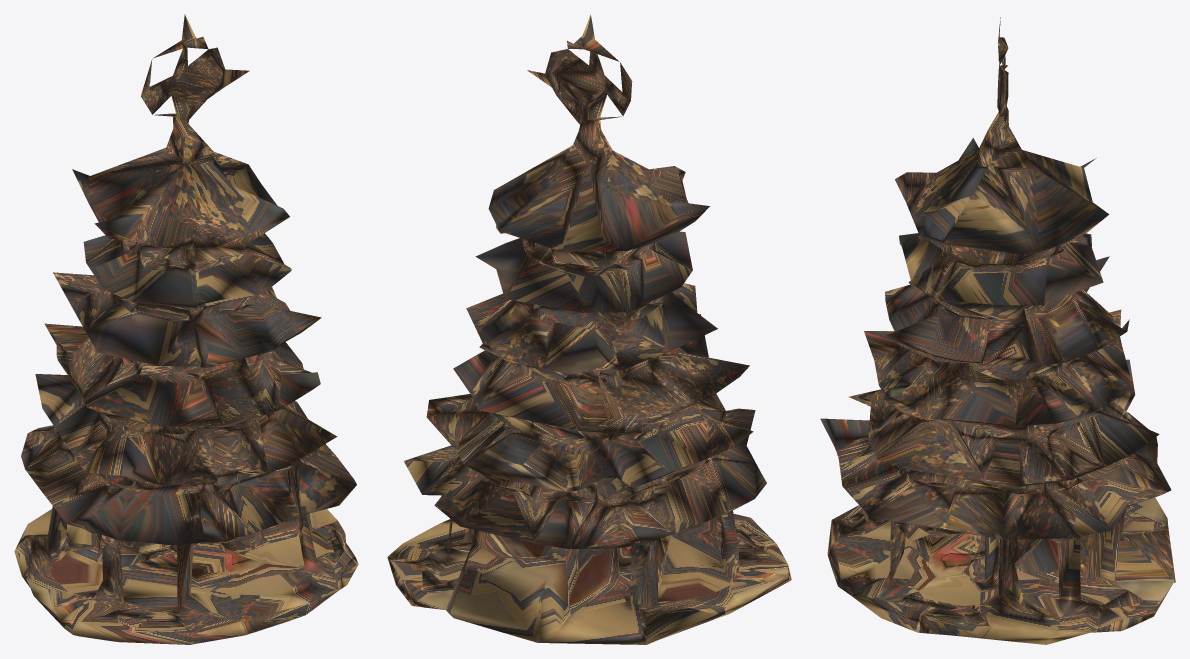
The model's file is h_hall_far.glb.
3 views of the same model, side by side, from view 1: azimuth 30°, elevation 25°; view 2: azimuth 150°, elevation 25°; view 3: azimuth 270°, elevation 25° (orthographic).
Parts seen in each view (by area): view 1: tripo_node_b29f69f2-ae94-4486-a477-74a9a783f94b; view 2: tripo_node_b29f69f2-ae94-4486-a477-74a9a783f94b; view 3: tripo_node_b29f69f2-ae94-4486-a477-74a9a783f94b.
Boxes of the visible parts, x1=… form: tripo_node_b29f69f2-ae94-4486-a477-74a9a783f94b: x1=14, y1=14, x2=358, y2=644; tripo_node_b29f69f2-ae94-4486-a477-74a9a783f94b: x1=387, y1=14, x2=791, y2=644; tripo_node_b29f69f2-ae94-4486-a477-74a9a783f94b: x1=820, y1=17, x2=1175, y2=644.
Bounding box in the file's own units: 0.5995 × 0.9999 × 0.582.
Materials: 1 (1 with a texture image).
